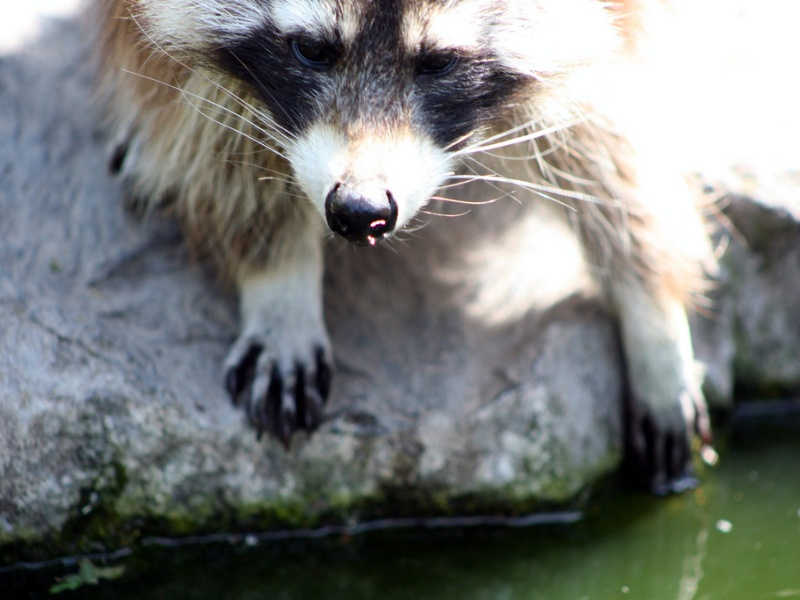raccoon: (88, 1, 718, 493)
